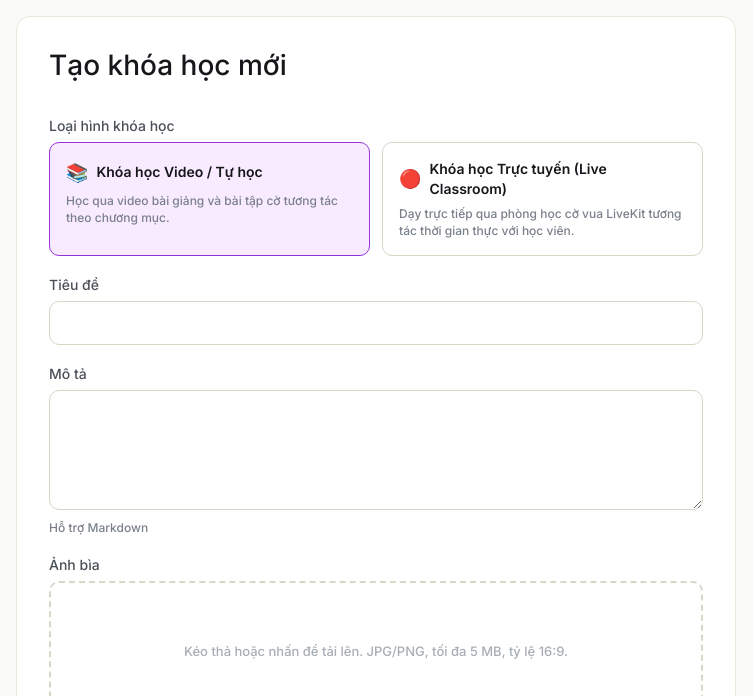
Test: NewCoursePage › shows live schedule field when selecting live course type without exposing technical room ID
Click live course type
What coordinates should you click on to do the following:
click the element with test id "type-live-btn"
I would click on:
 (542, 199)
Its box is [382,142,703,256].
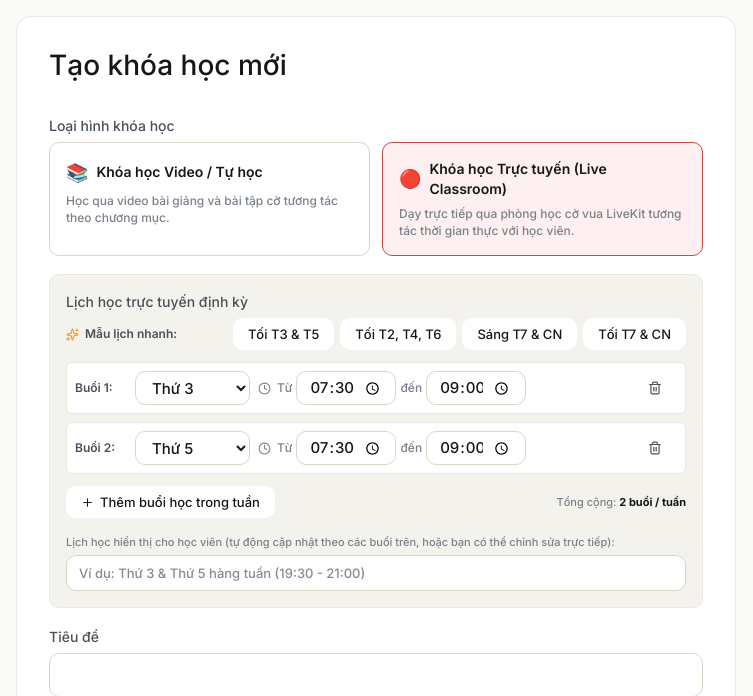
Expected: the element with test id "live-course-fields" is shown, [49,274,703,608]
Expected: the field with test id "live-schedule-input" is shown, [66,555,686,591]
